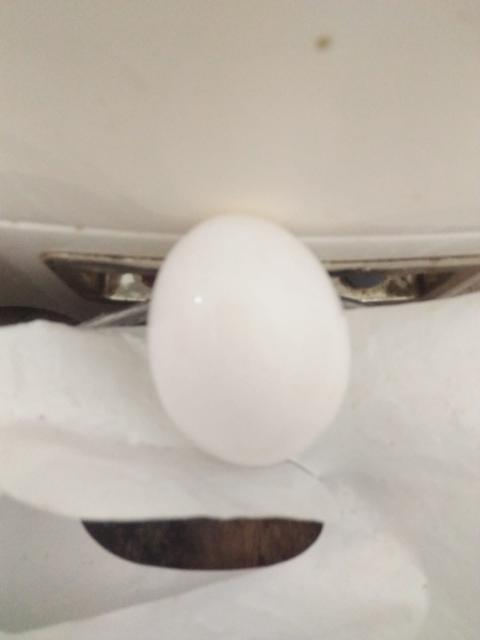Sano: (145, 211, 352, 468)
